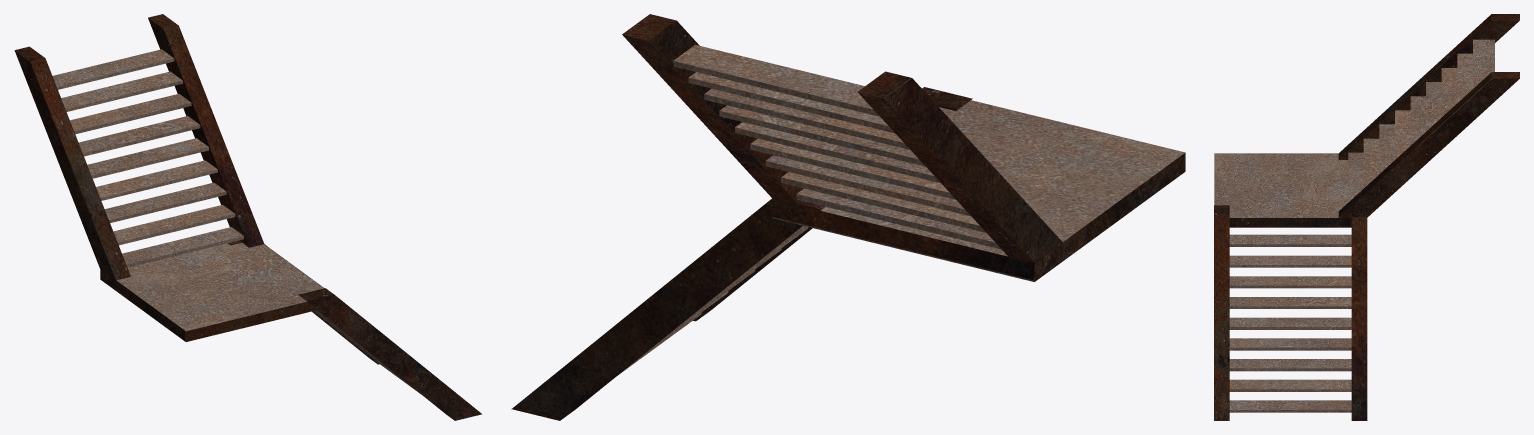
Rendered from metal_stairs_l_shape_textured.glb.
3 renders of one model, left to right at view 1: azimuth 30°, elevation 25°; view 2: azimuth 150°, elevation 25°; view 3: azimuth 270°, elevation 25°, orthographic. The views are drawn at different scales.
Parts seen in each view (by area): view 1: Cube.001; view 2: Cube.001; view 3: Cube.001.
Boxes of the visible parts, left/top/right/bottom form: Cube.001: left=14, top=14, right=481, bottom=420; Cube.001: left=511, top=14, right=1185, bottom=420; Cube.001: left=1214, top=14, right=1519, bottom=420.
Bounding box in the file's own units: 2 × 2.01 × 2.
1 material, 1 textured.
